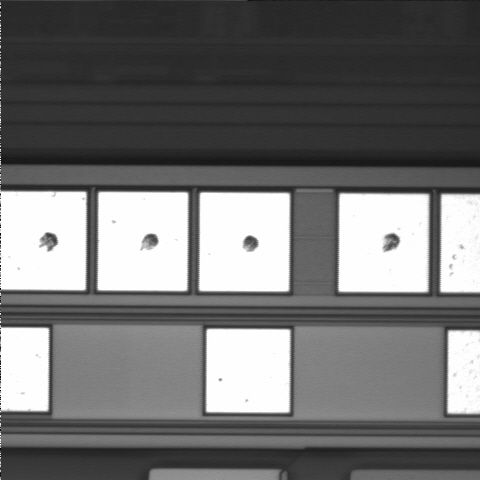pad: (199, 193, 290, 291), (98, 192, 188, 291), (339, 194, 429, 292), (206, 329, 290, 413)
